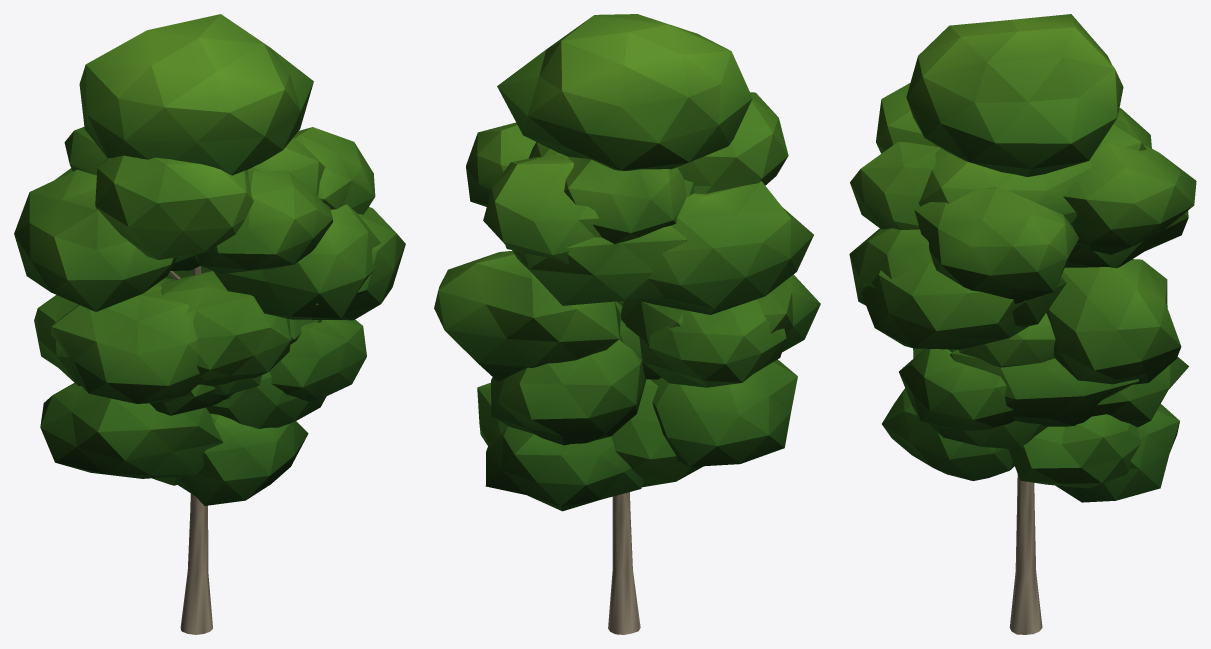
File: red-alder.glb
3 views of the same model, side by side, from view 1: azimuth 30°, elevation 25°; view 2: azimuth 150°, elevation 25°; view 3: azimuth 270°, elevation 25° (orthographic).
Visible parts, largest first — view 1: red-alder.Leaves, red-alder.Bark; view 2: red-alder.Leaves, red-alder.Bark; view 3: red-alder.Leaves, red-alder.Bark.
Boxes of the visible parts, x1,y1,x2,y2 form: red-alder.Leaves: (14,14,405,505); red-alder.Bark: (169,266,212,634); red-alder.Leaves: (434,14,820,511); red-alder.Bark: (608,492,640,634); red-alder.Leaves: (849,14,1196,502); red-alder.Bark: (1009,474,1042,634).
Size of the model in its own units: 7.61 by 13.01 by 6.87.
